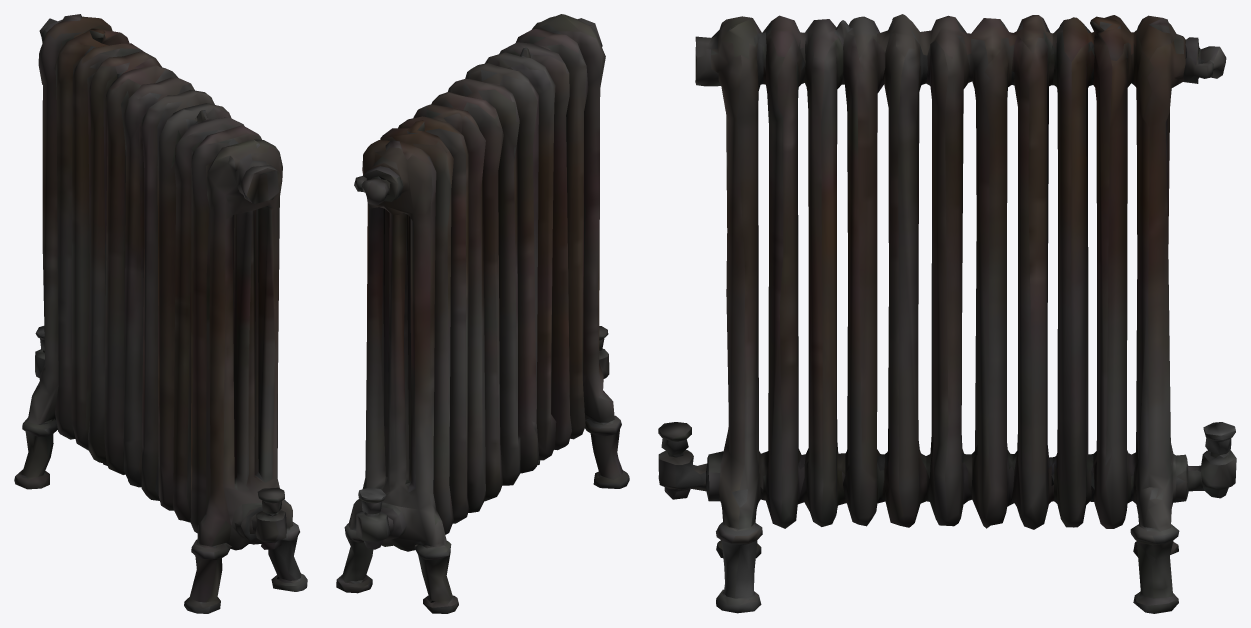
Rendered from ancient-iron-radiator-v001.glb.
3 views of the same model, side by side, from view 1: azimuth 30°, elevation 25°; view 2: azimuth 150°, elevation 25°; view 3: azimuth 270°, elevation 25° (orthographic). The views are drawn at different scales.
Visible parts, largest first — view 1: ancient-iron-radiator; view 2: ancient-iron-radiator; view 3: ancient-iron-radiator.
Part boxes in pixels (x1,y1,x2,y2): ancient-iron-radiator: [14, 14, 307, 613]; ancient-iron-radiator: [336, 14, 629, 613]; ancient-iron-radiator: [658, 14, 1236, 613].
Bounding box in the file's own units: 0.2154 × 0.7974 × 0.7452.
Materials: 1 (1 with a texture image).
